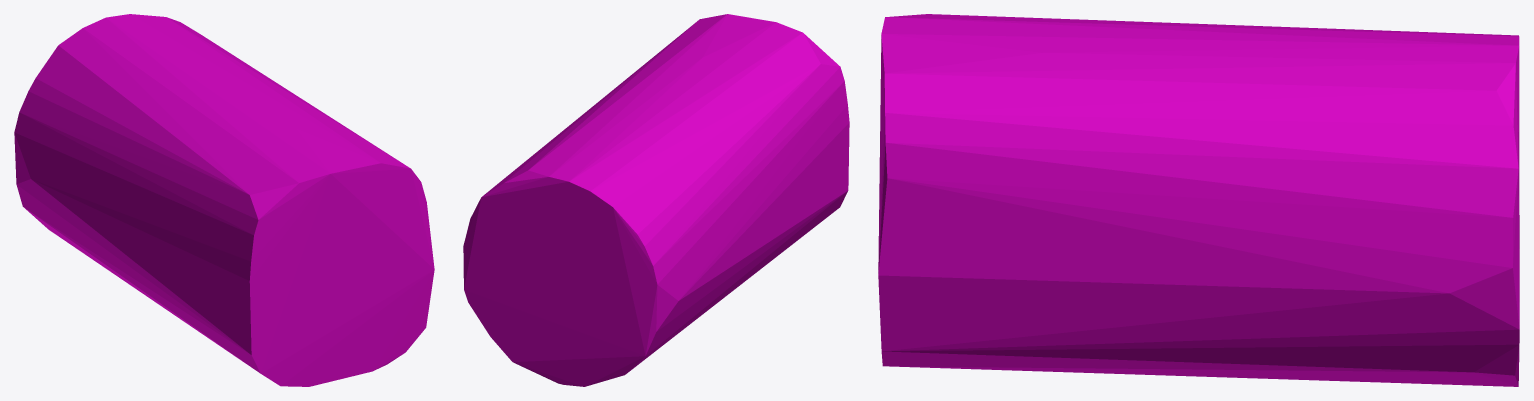
File: arm-L3_convex_piece_003.obj
The picture shows the model from 3 angles, left to right: view 1: azimuth 30°, elevation 25°; view 2: azimuth 150°, elevation 25°; view 3: azimuth 270°, elevation 25°; orthographic projection. The views are drawn at different scales.
Size of the model in its own units: 0.0745 by 0.0767 by 0.1356.
